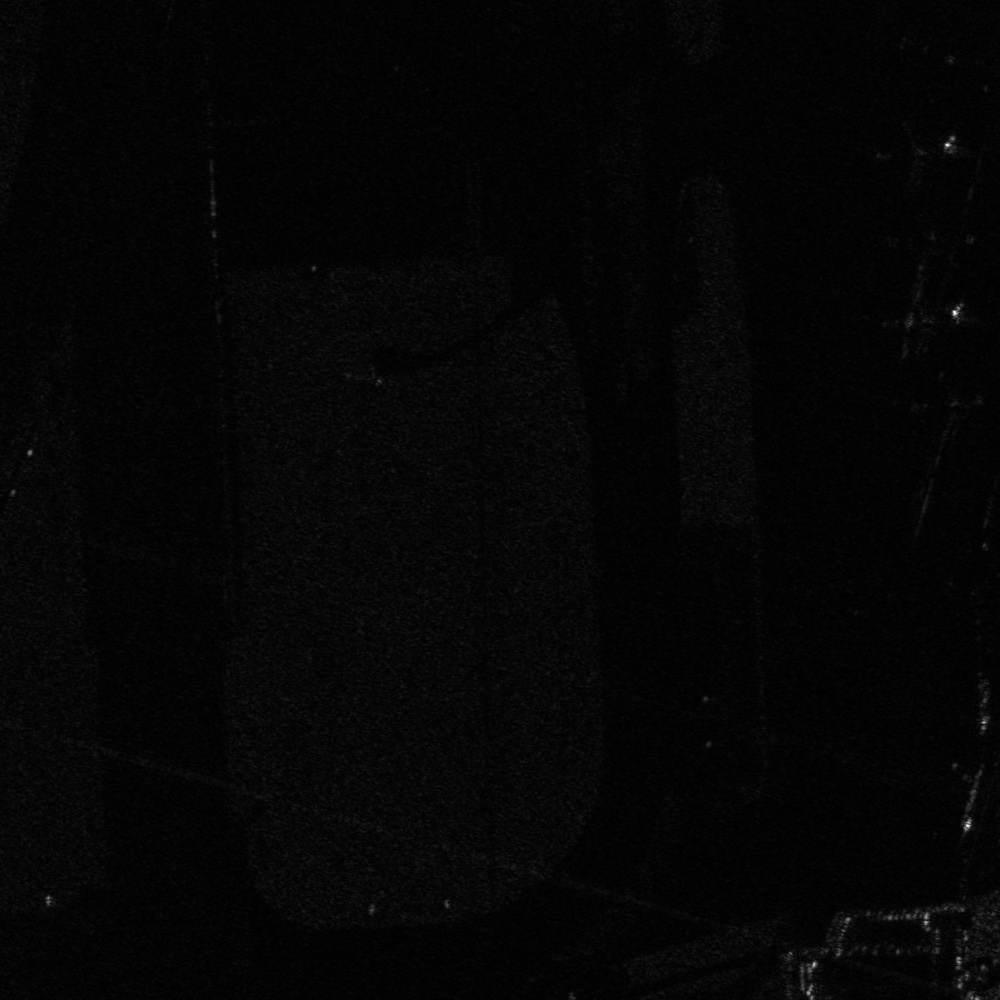A220: (861, 113, 974, 196), (874, 271, 971, 354)
ARJ21: (883, 360, 981, 471)
